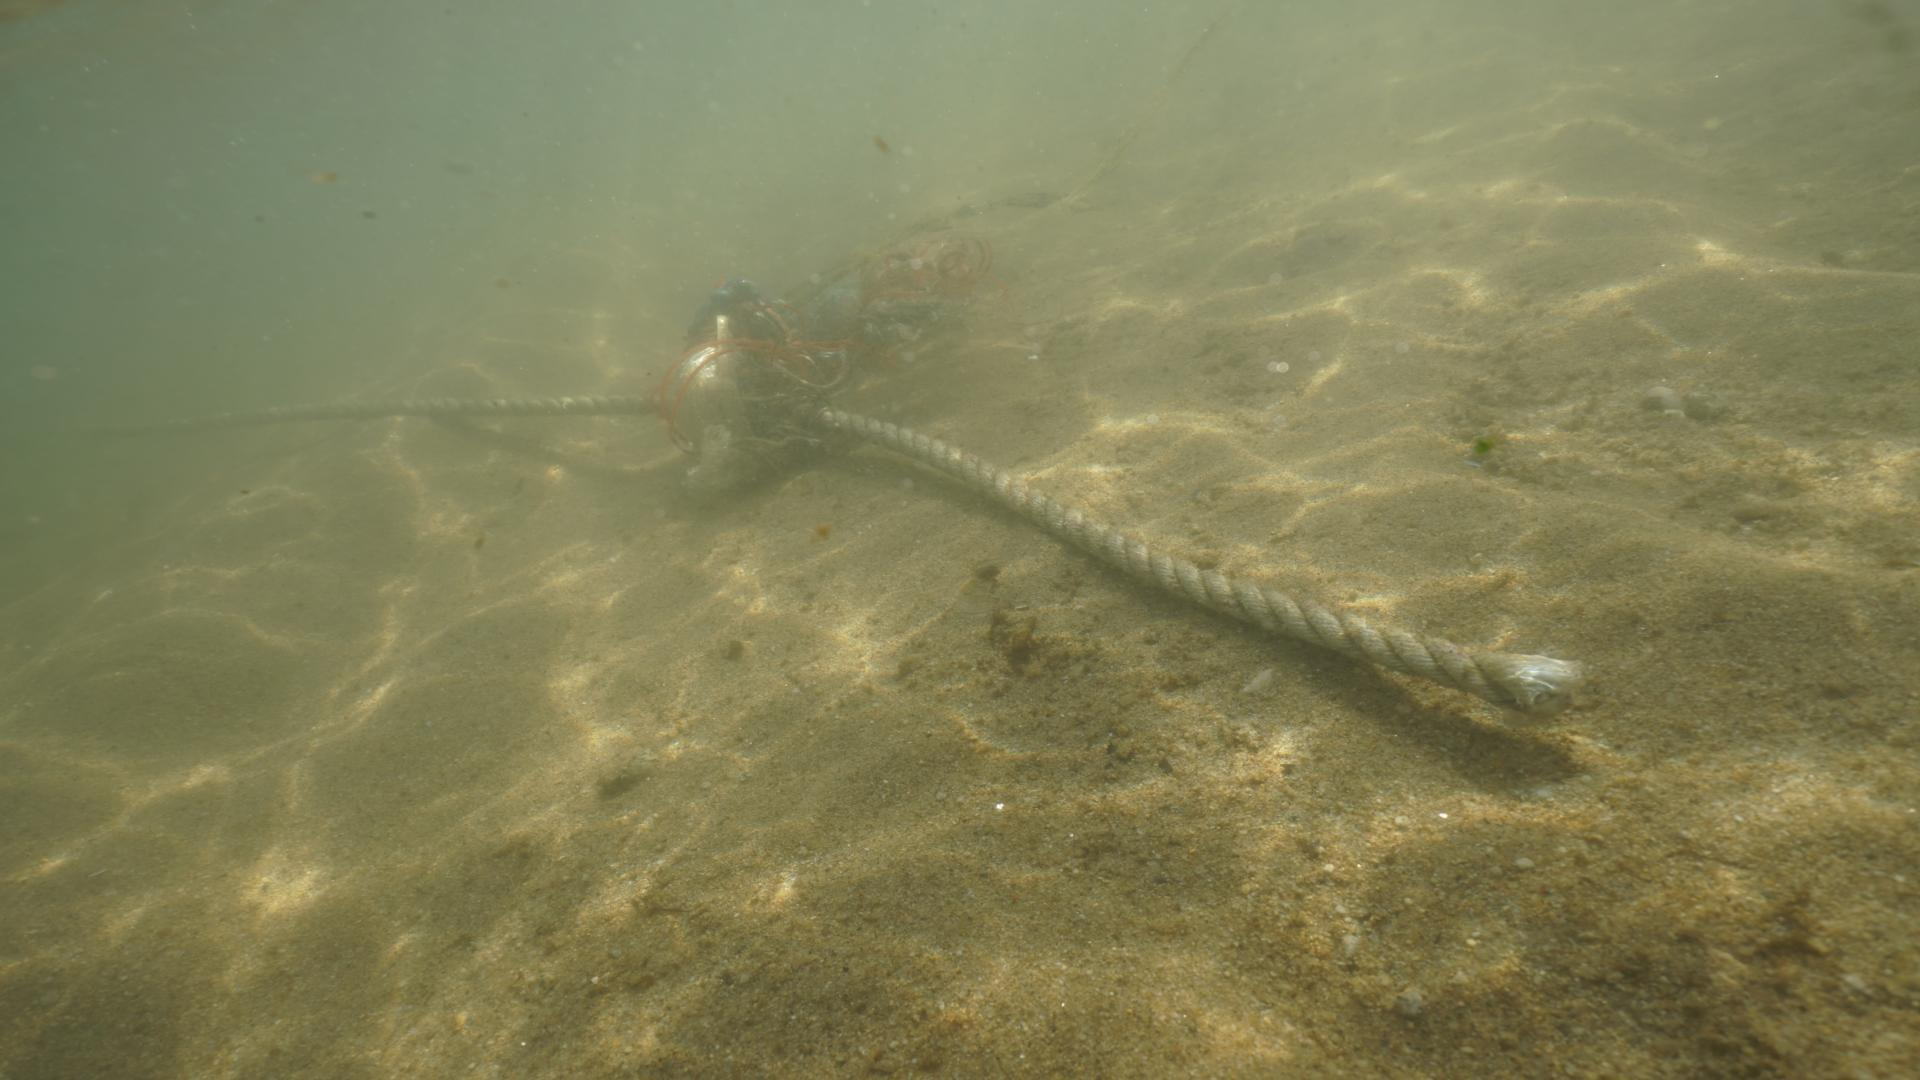rope: (0, 382, 1575, 715)
